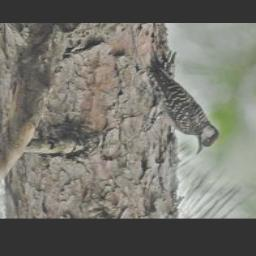Woodpecker: (145, 57, 219, 160)
